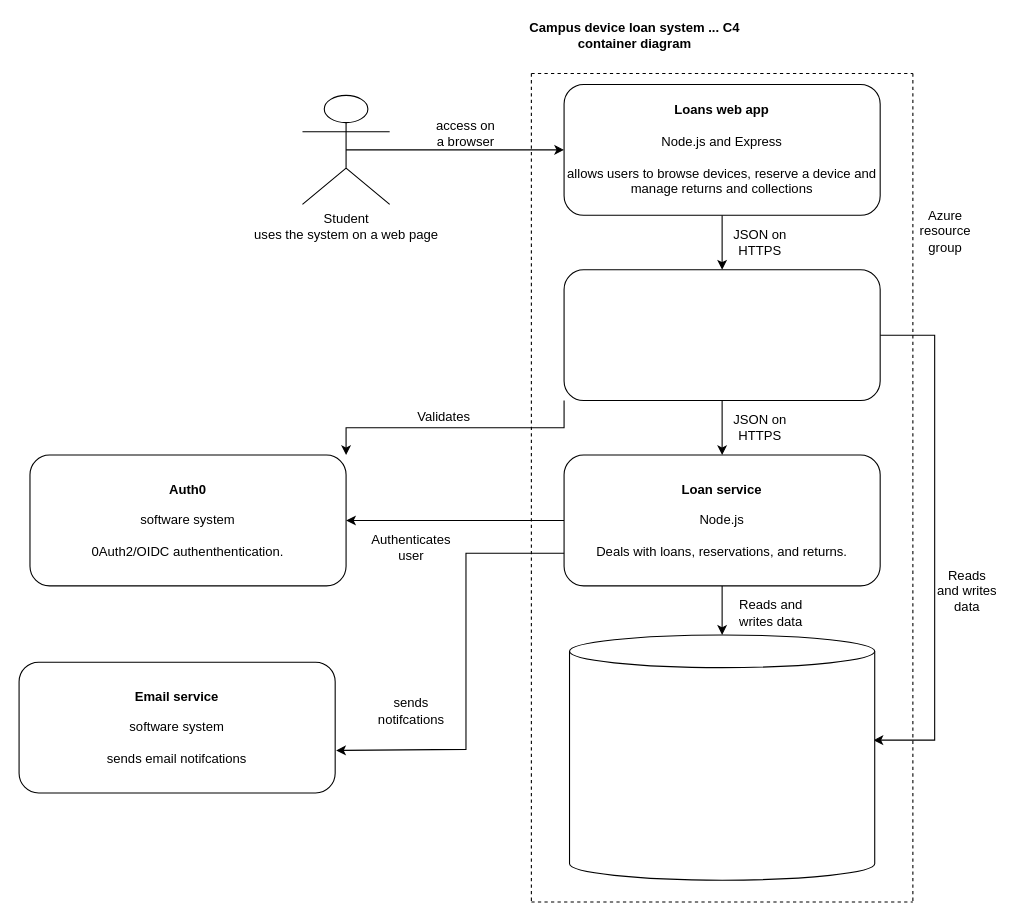
Image size: 1019x922. Some labels were removed from this diagram. The shapes that lost their labels are listed below. From the top down, each one's centre as x and y in pixels, then its label:
At [721,335]: "Catalogue service Node.js shows device catalogue and availability".
At [721,757]: "Loans database (Container, CosmosDB) stores availability, and loan records".
